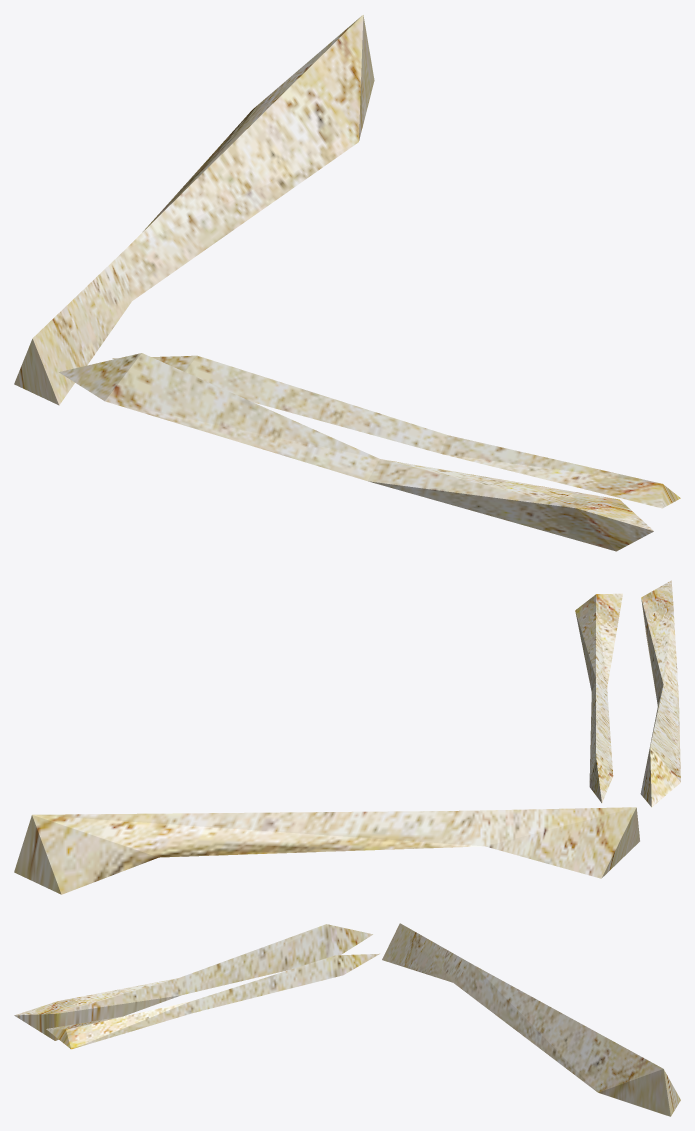
Rendered from poi_tato_skel_krayt_arm_s01_l2.fbx.
3 views of the same model, one above another, from view 1: azimuth 30°, elevation 25°; view 2: azimuth 150°, elevation 25°; view 3: azimuth 270°, elevation 25° (orthographic). The views are drawn at different scales.
Parts seen in each view (by area): view 1: mesh_node; view 2: mesh_node; view 3: mesh_node.
Part boxes in pixels (x1=…): mesh_node: x1=14, y1=15, x2=680, y2=551; mesh_node: x1=14, y1=580, x2=680, y2=894; mesh_node: x1=14, y1=923, x2=680, y2=1116.
Bounding box in the file's own units: 2.79 × 0.4328 × 4.83.
Materials: 1 (1 with a texture image).
